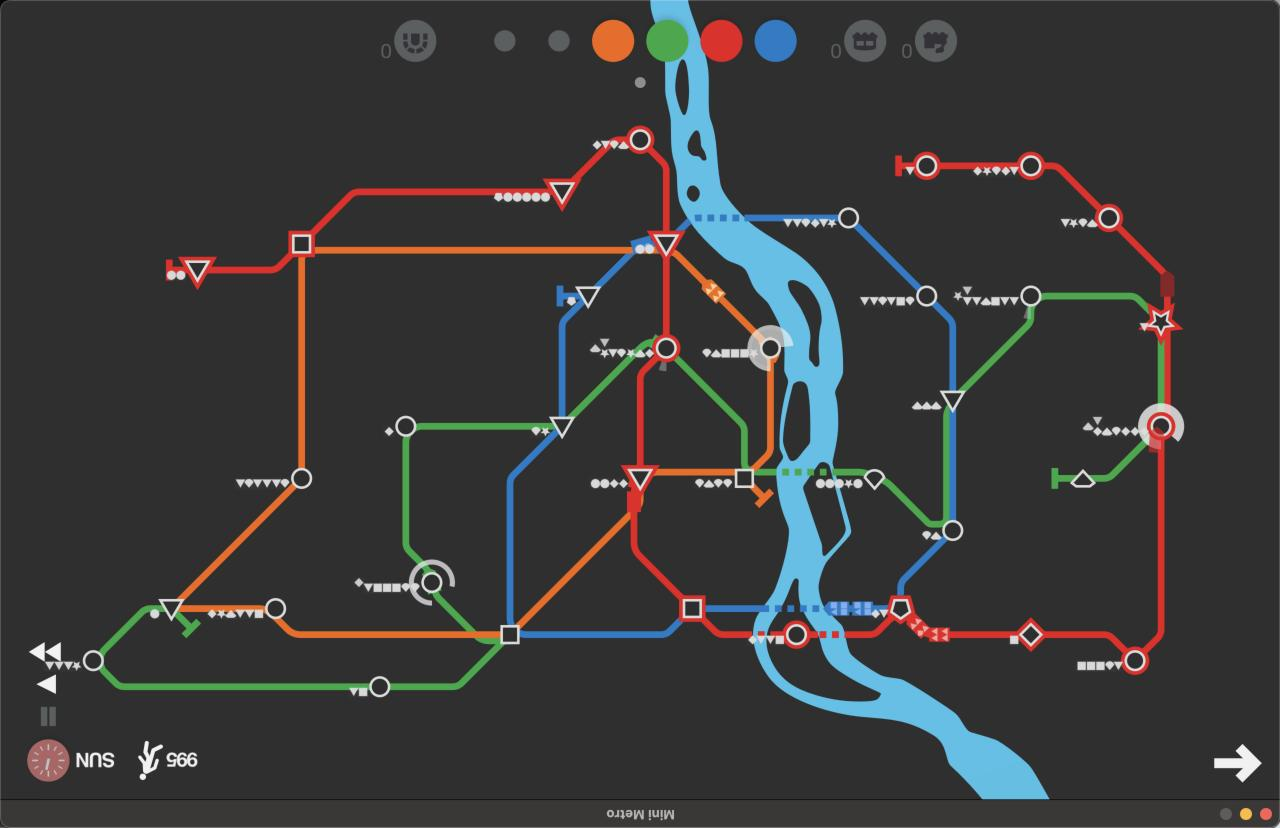BLUE LINE: (506, 431, 558, 625), (854, 223, 922, 290), (520, 618, 681, 639), (558, 297, 585, 416), (896, 538, 946, 597), (676, 213, 836, 230), (933, 302, 957, 391), (706, 606, 886, 613), (596, 254, 635, 286), (949, 410, 956, 520), (557, 285, 576, 307), (636, 240, 654, 246)
DARK GREEN LINE: (883, 406, 950, 527), (674, 358, 749, 466), (100, 667, 366, 692), (569, 340, 649, 417), (962, 307, 1034, 392), (390, 638, 505, 689), (401, 437, 428, 574), (98, 604, 165, 657), (1091, 439, 1148, 482), (1039, 293, 1149, 314), (431, 593, 474, 631), (415, 422, 554, 430), (754, 469, 865, 477), (176, 612, 199, 636), (1156, 341, 1164, 404), (1051, 467, 1072, 490)
ORANGE LINE: (177, 482, 298, 600), (516, 510, 629, 628), (672, 250, 764, 344), (272, 618, 498, 638), (316, 246, 632, 254), (754, 360, 775, 467), (297, 260, 306, 468), (178, 606, 266, 614), (656, 468, 736, 475), (751, 486, 773, 507), (641, 247, 661, 254), (640, 493, 646, 507)
RED LINE: (311, 189, 549, 235), (626, 489, 683, 599), (1115, 227, 1169, 312), (1144, 443, 1165, 654), (907, 614, 1016, 641), (1044, 162, 1101, 209), (636, 356, 659, 464), (571, 136, 624, 181), (206, 252, 293, 276), (644, 147, 669, 229), (810, 617, 892, 639), (697, 619, 783, 639), (1044, 632, 1126, 652), (941, 161, 1016, 170), (662, 256, 670, 334), (1164, 333, 1171, 406), (892, 154, 911, 177), (164, 260, 184, 280)
